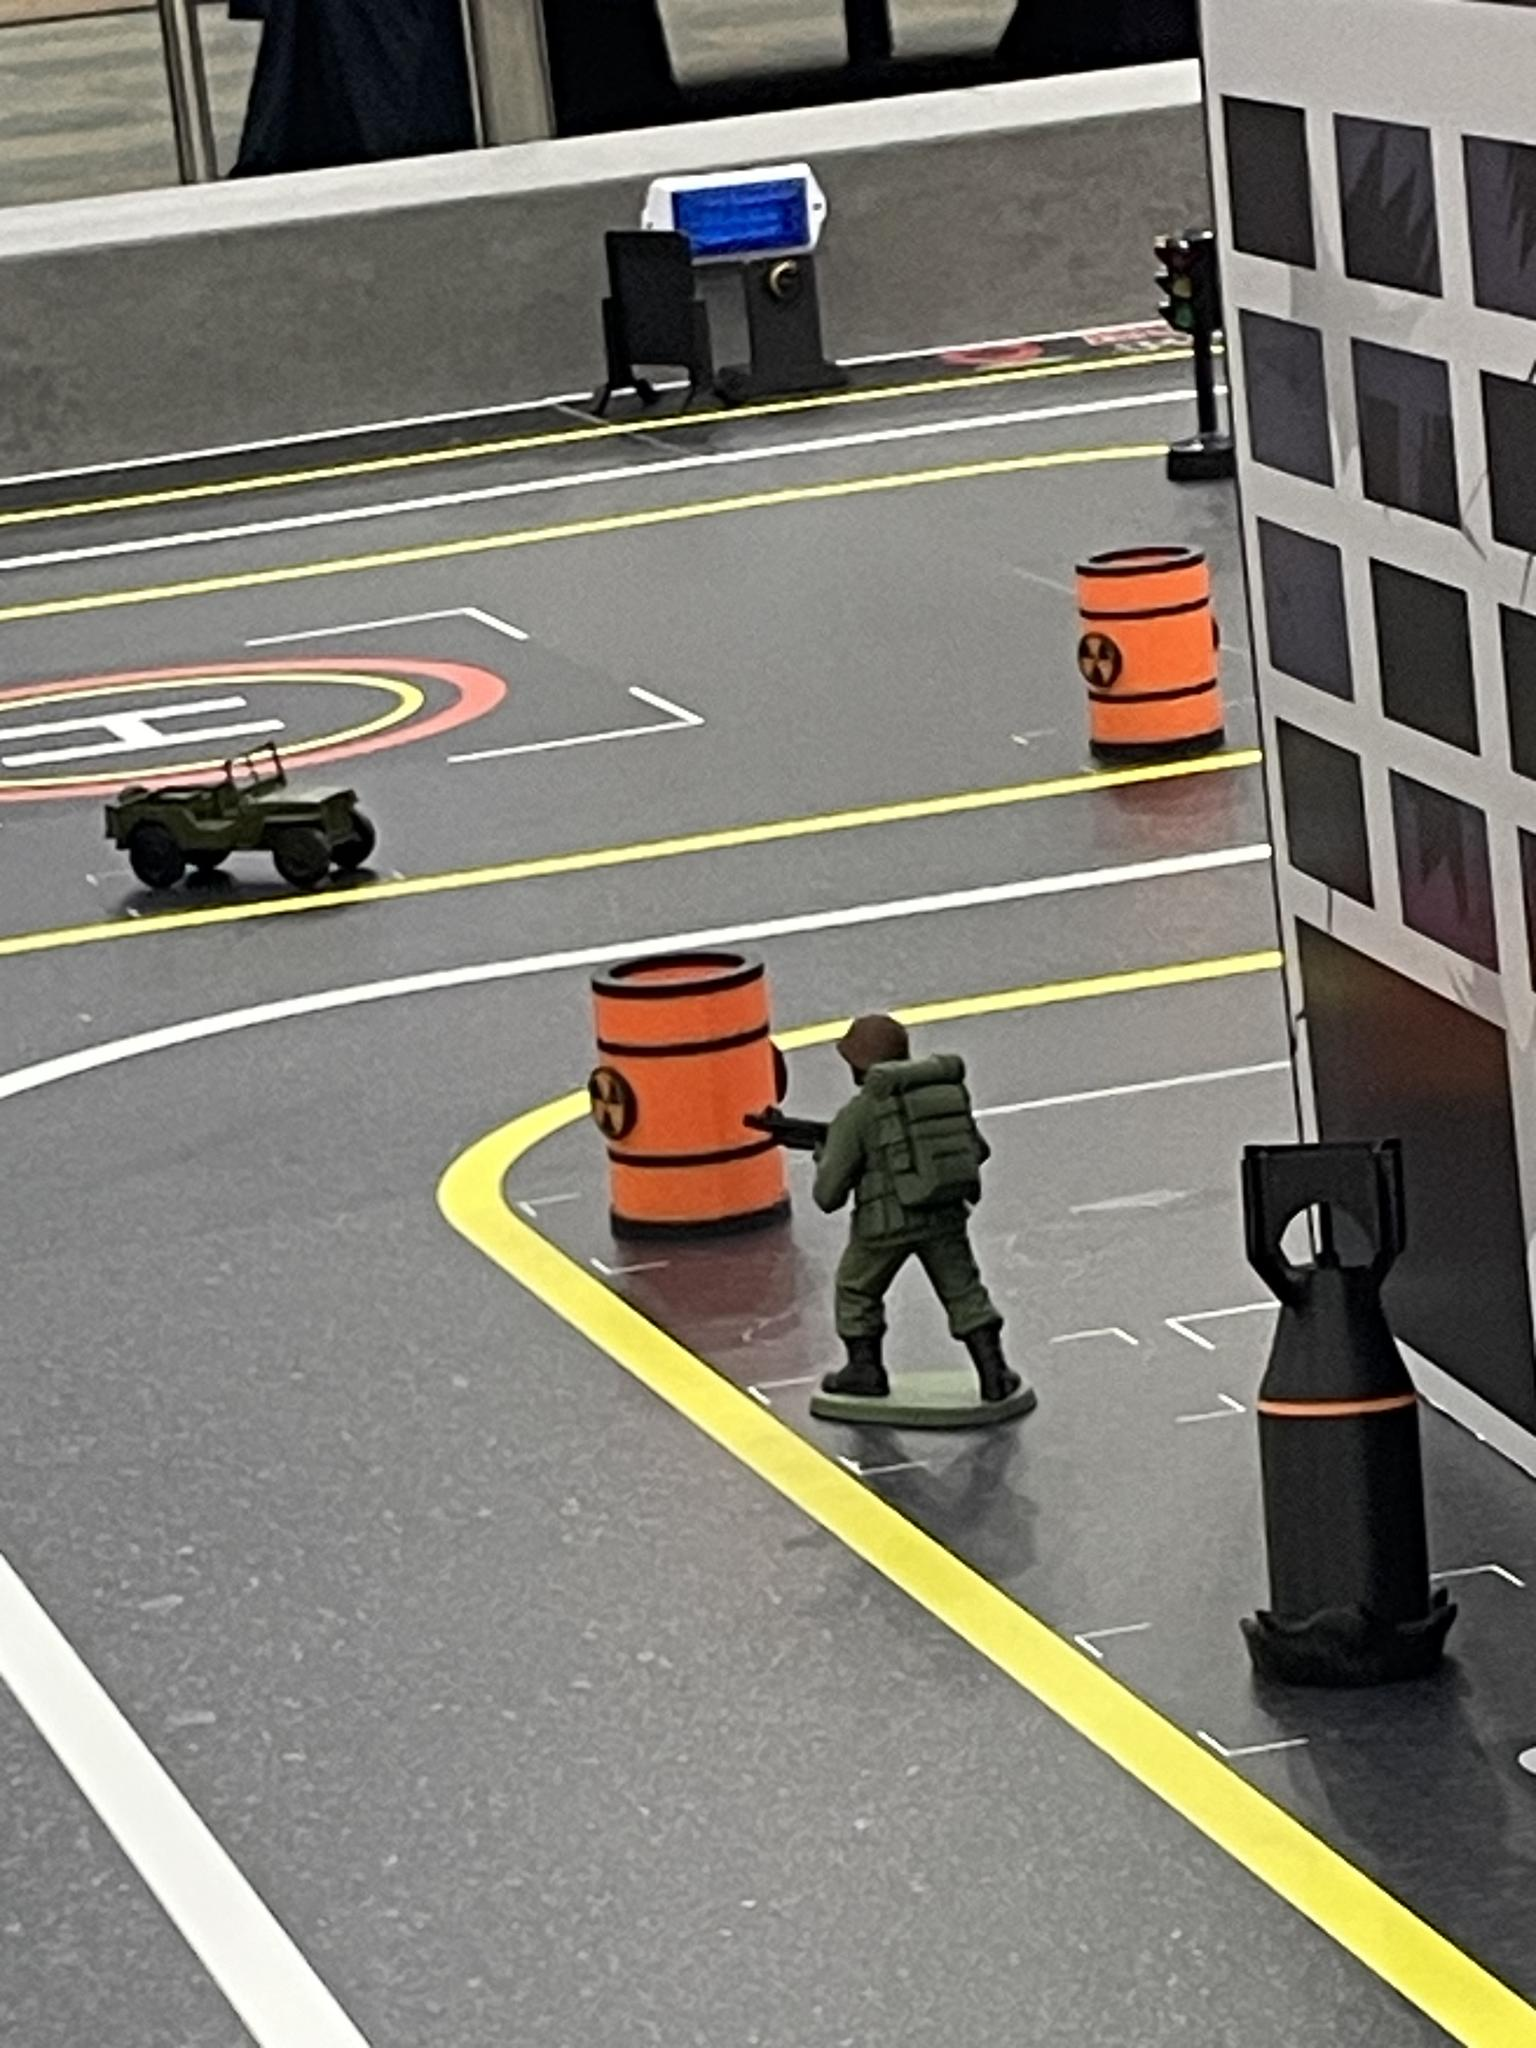Car: (104, 737, 378, 886)
Enemy: (785, 1001, 1044, 1437)
Hazmat: (584, 932, 787, 1257), (1069, 543, 1232, 775)
Missile: (1227, 1128, 1481, 1727)
